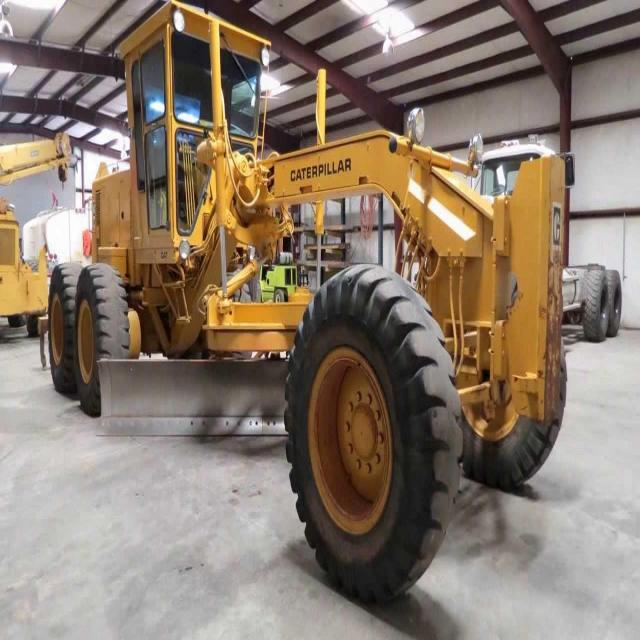Grader: (32, 7, 584, 609)
